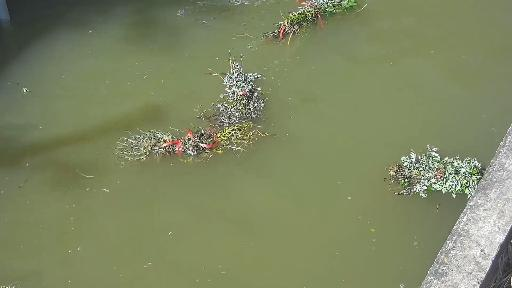twig: (98, 122, 274, 165), (253, 0, 392, 43), (394, 150, 499, 201), (201, 63, 270, 120)
